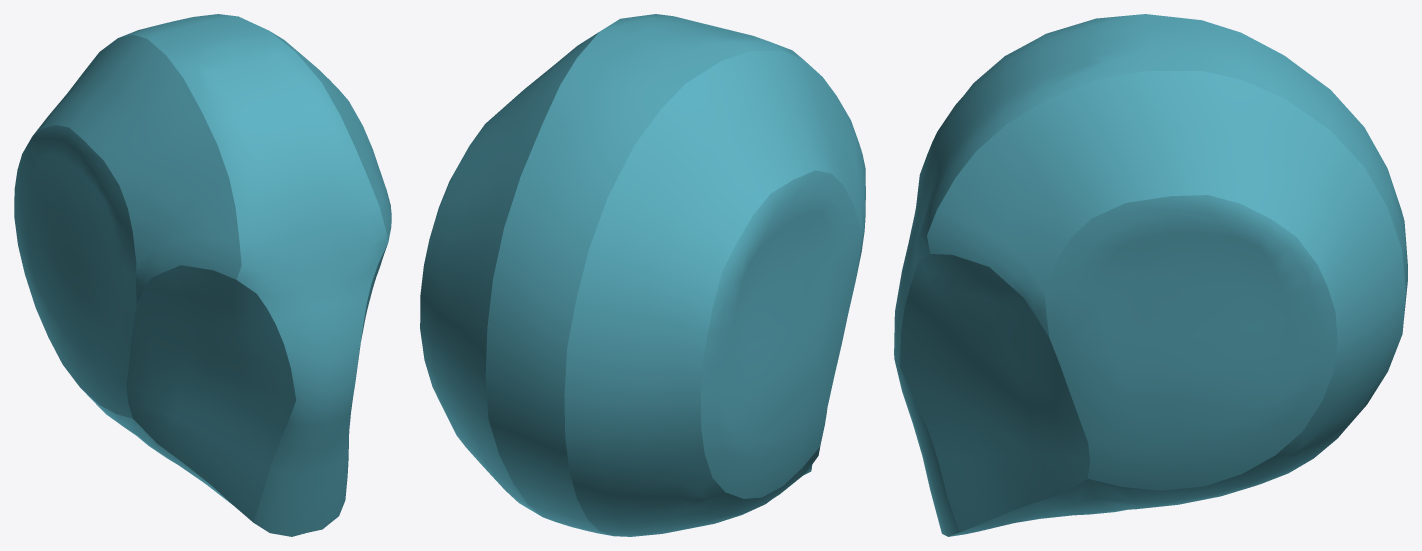
Rendered from head.gltf.
3 renders of one model, left to right at view 1: azimuth 30°, elevation 25°; view 2: azimuth 150°, elevation 25°; view 3: azimuth 270°, elevation 25°, orthographic. The views are drawn at different scales.
Parts seen in each view (by area): view 1: head; view 2: head; view 3: head.
Part boxes in pixels (x1=…): head: x1=14, y1=14, x2=391, y2=536; head: x1=420, y1=14, x2=865, y2=536; head: x1=894, y1=14, x2=1407, y2=536.
Size of the model in its own units: 0.3202 by 0.5171 by 0.495.
